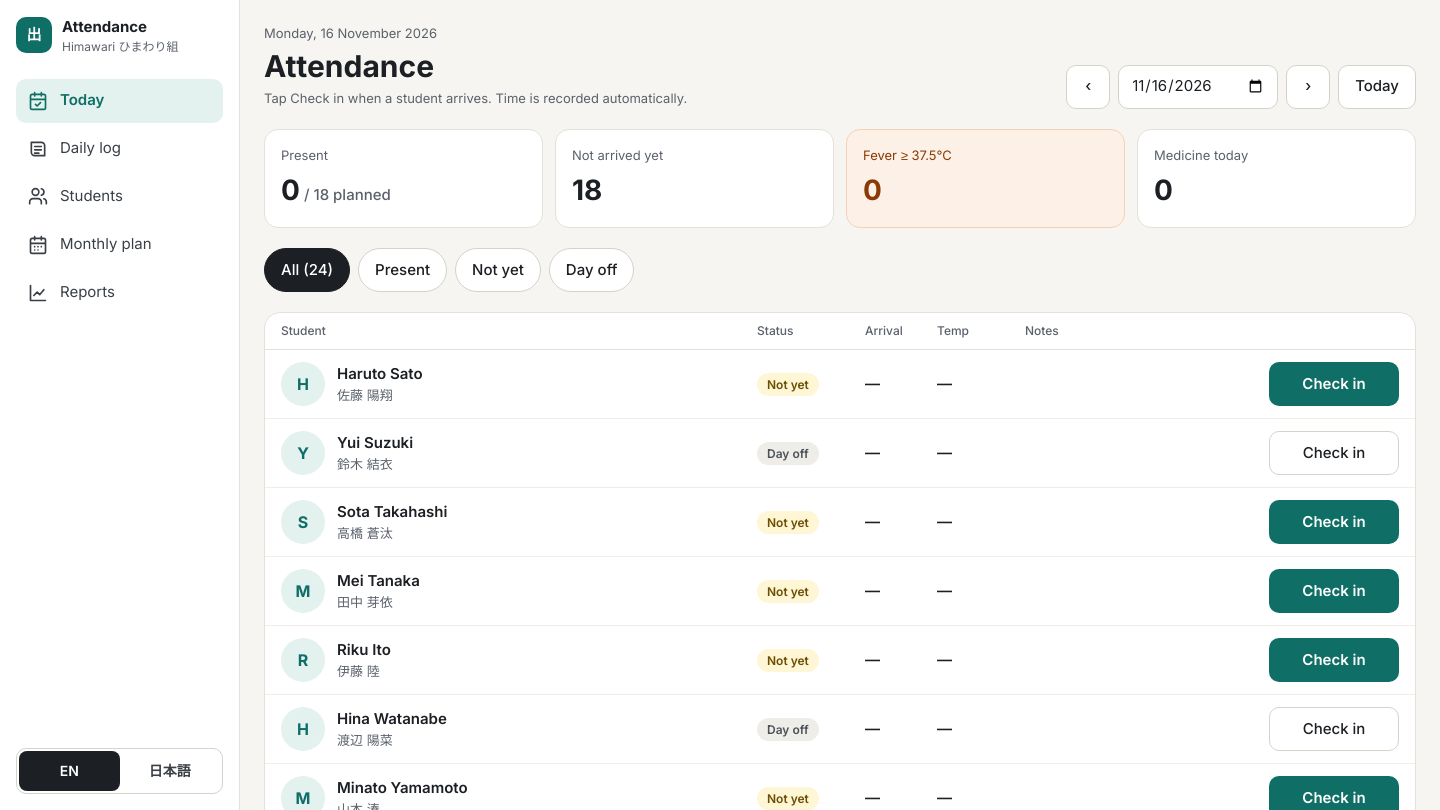
Scenario: Language toggle › shows one language at a time and switches
Expected: the heading reads "Attendance", [264,48,434,84]
Expected: the text "出欠" is not shown
Click the button "日本語": (170, 771) [120,751,220,791]
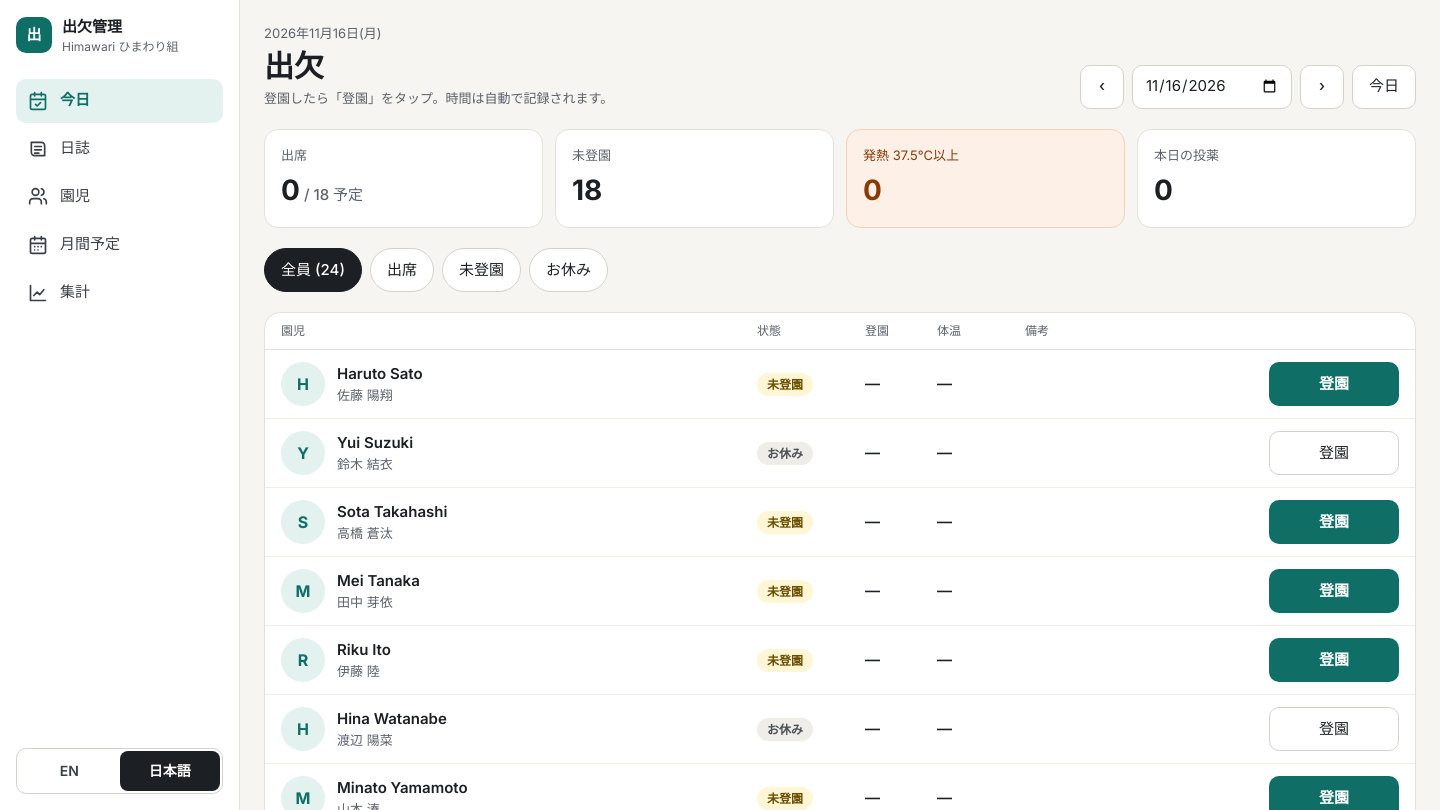
Expected: the heading reads "出欠", [264,48,324,84]
Expected: the text "2026年11月16日(月)" is shown, [264,25,382,41]
Expected: the text "Check in" is gone
Click the button "EN": (69, 771) [19,751,120,791]
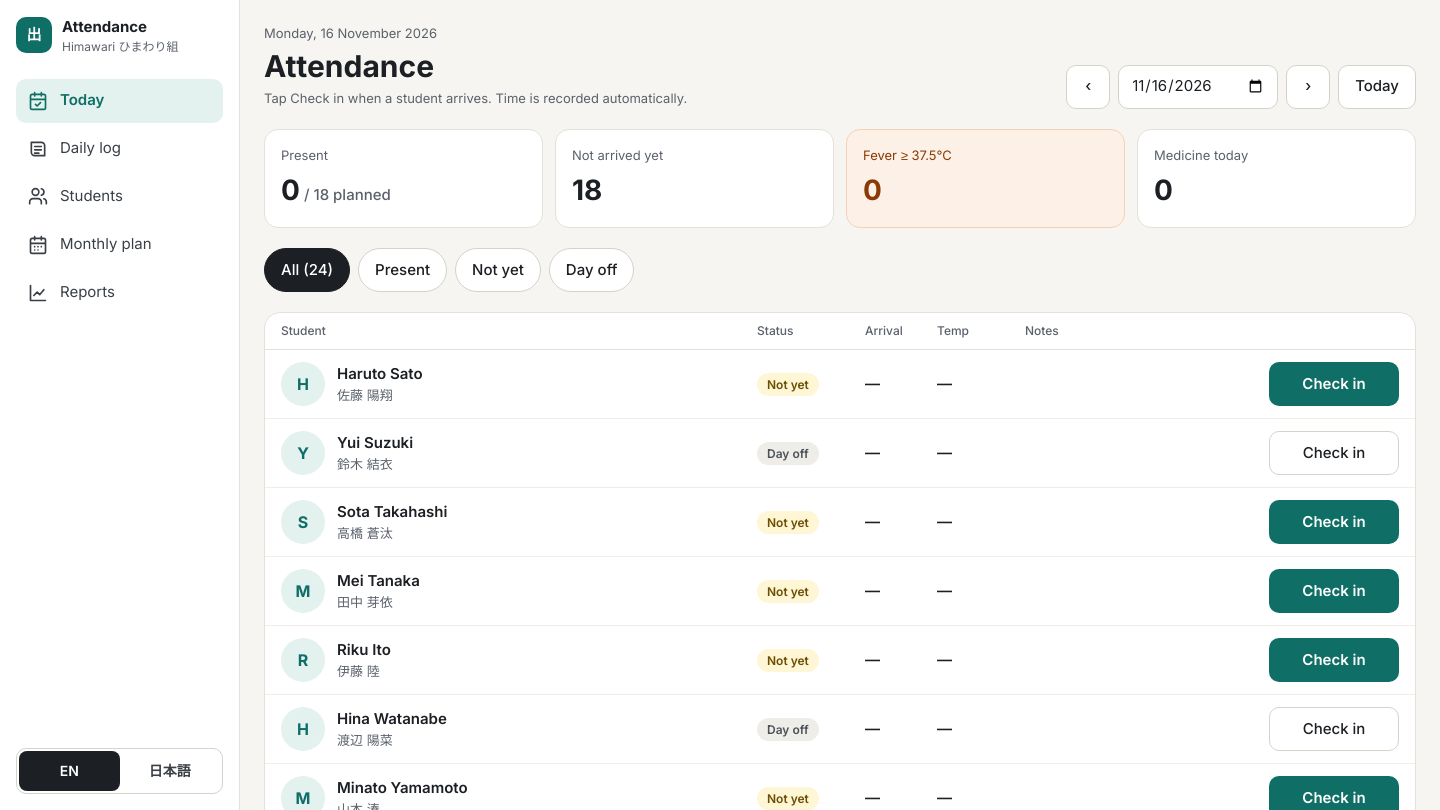
Expected: the button "Check in" in the row of "Haruto Sato" is shown, [1269,362,1399,406]
